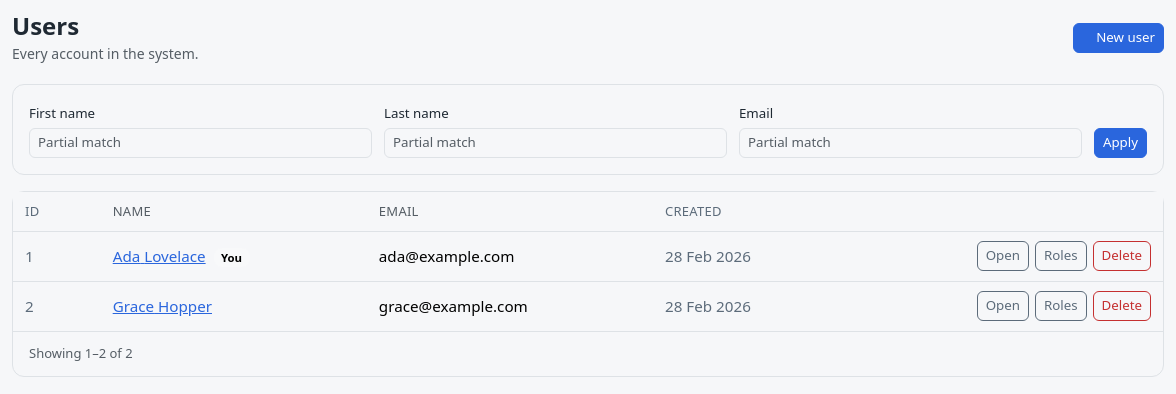
Test: List screens › clears every filter on reset
This screenshot has width=1176, height=394.
Expected: the link "Grace Hopper" is shown, x1=113 y1=296 x2=212 y2=316
Step 1. Type "grace" into the field labelled "Email" → (910, 143), box x1=739 y1=128 x2=1082 y2=158
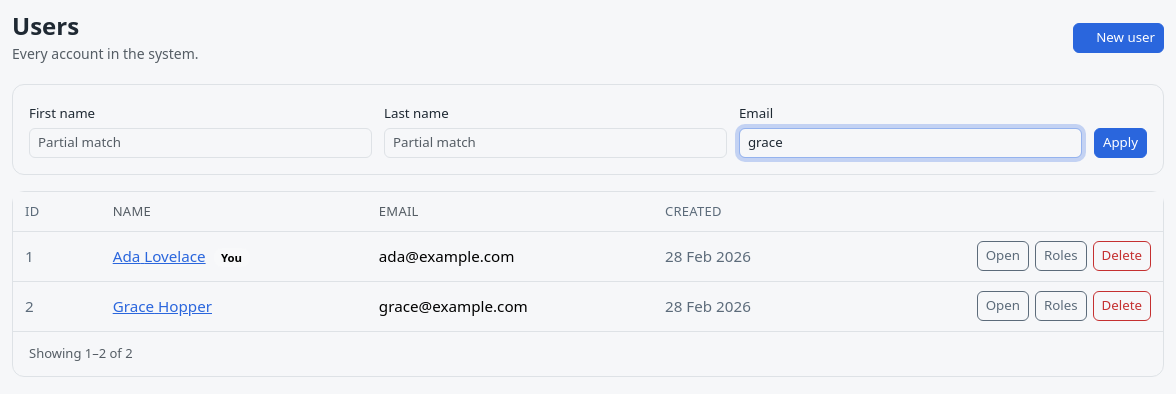
Step 2. Click the button "Apply" → (1120, 143), box x1=1094 y1=128 x2=1147 y2=158
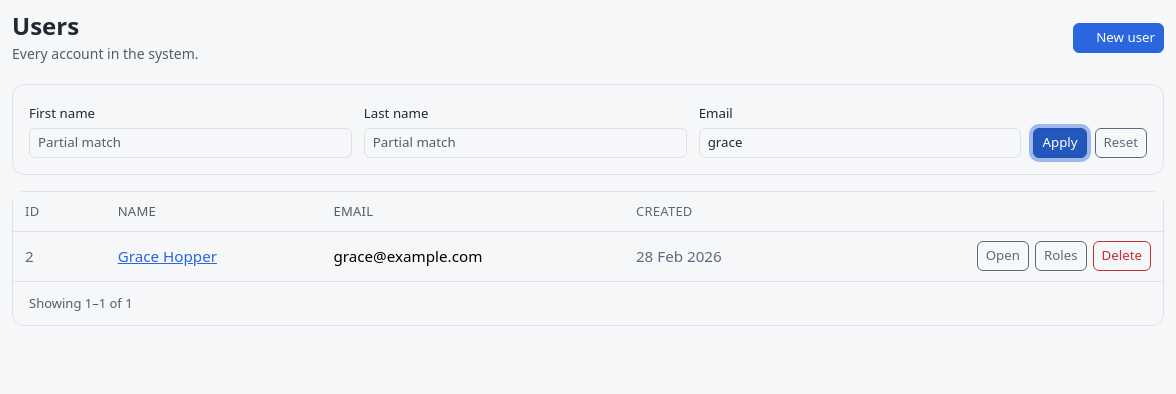
Result: the link "Ada Lovelace" is gone
Step 3. Click the button "Reset" → (1121, 143), box x1=1095 y1=128 x2=1147 y2=158
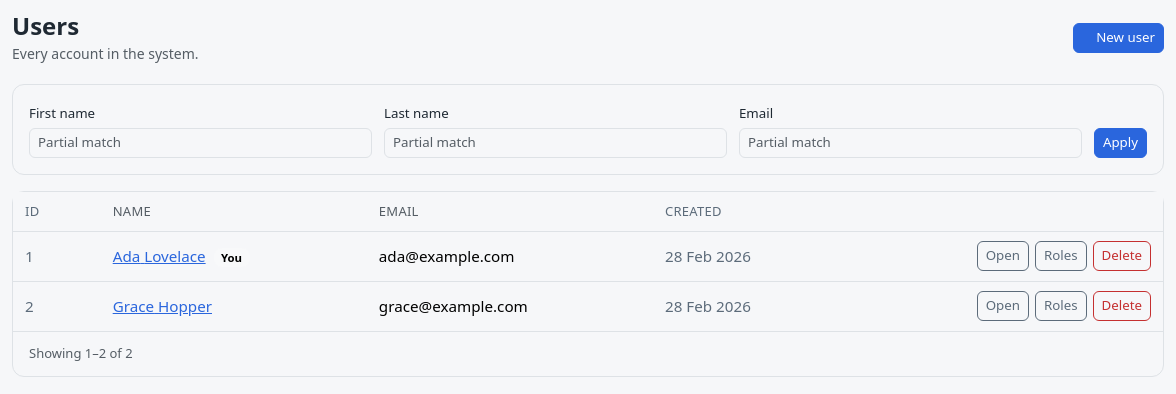
Result: the link "Ada Lovelace You" is shown at x1=113 y1=246 x2=250 y2=266
